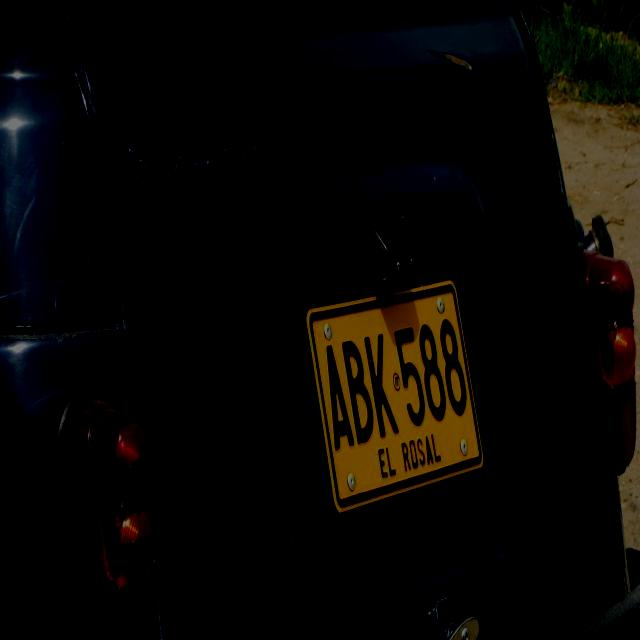placa: (304, 275, 486, 519)
